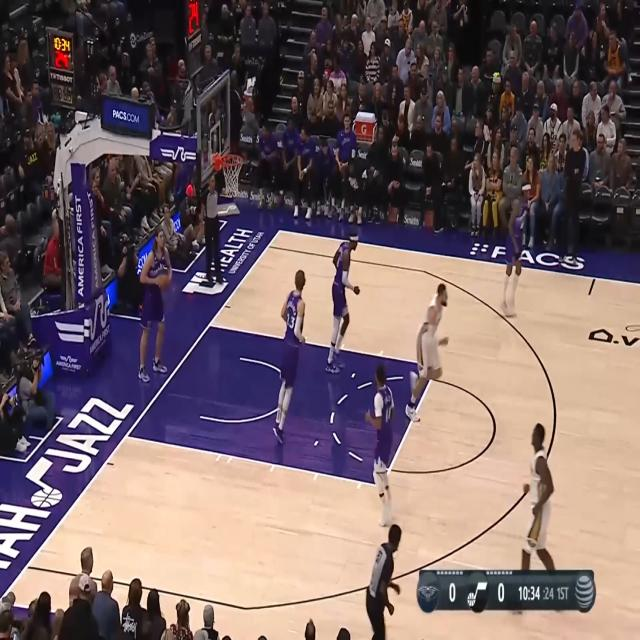Ball: (159, 273, 169, 292)
Clock: (47, 31, 74, 73), (188, 0, 201, 39)
Hoop: (220, 154, 243, 198)
Overlay: (416, 568, 597, 616)
Player: (511, 422, 563, 616), (404, 282, 449, 423), (272, 269, 306, 445), (364, 362, 396, 528), (138, 228, 172, 382), (325, 229, 360, 374), (499, 180, 532, 318)
Ref: (366, 523, 402, 640), (200, 174, 224, 284)
Scoreboard: (416, 570, 572, 614)
